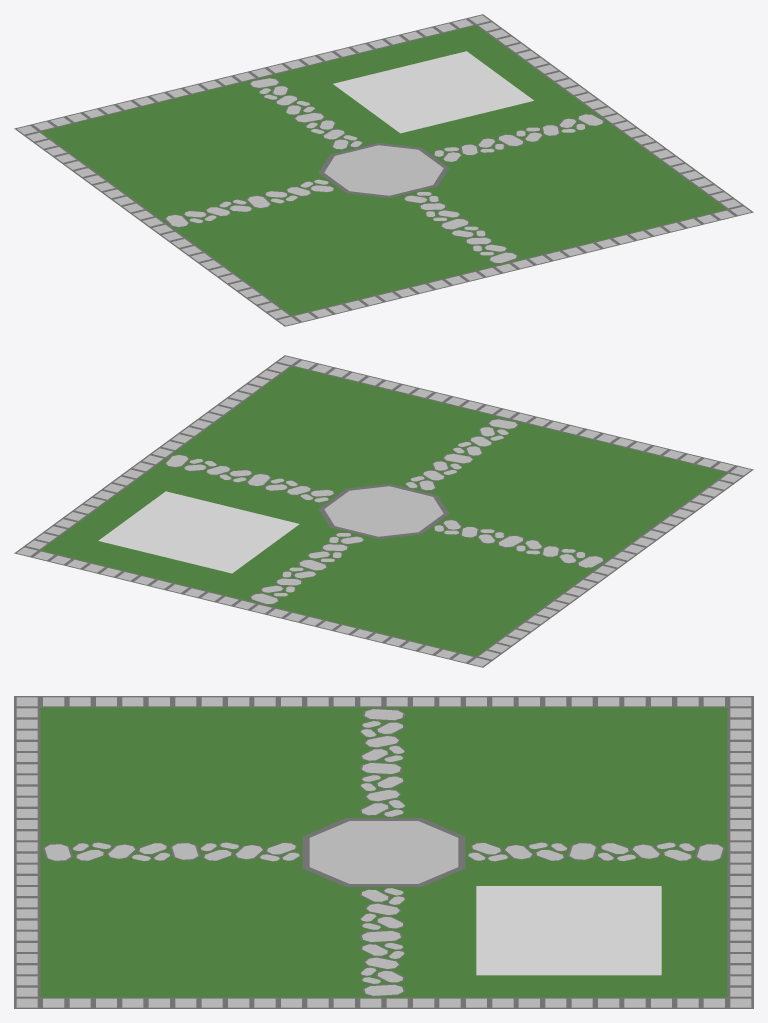
Rendered from stage-terrain.glb.
3 views of the same model, one above another, from view 1: azimuth 30°, elevation 25°; view 2: azimuth 150°, elevation 25°; view 3: azimuth 270°, elevation 25° (orthographic). The views are drawn at different scales.
Parts seen in each view (by area): view 1: Grass, sidewalk_outter_1, TablePlaceMat, sidewalk_outter_0, sidewalk_middle, sidewalk_inner_0, sidewalk_inner_1; view 2: Grass, sidewalk_outter_1, TablePlaceMat, sidewalk_outter_0, sidewalk_middle, sidewalk_inner_0, sidewalk_inner_1; view 3: Grass, sidewalk_outter_0, TablePlaceMat, sidewalk_outter_1, sidewalk_middle, sidewalk_inner_0, sidewalk_inner_1.
Part boxes in pixels (<box>): Grass: <box>40,25,727,315</box>; sidewalk_outter_1: <box>14,14,753,326</box>; TablePlaceMat: <box>333,51,533,133</box>; sidewalk_outter_0: <box>14,14,753,326</box>; sidewalk_middle: <box>319,143,448,197</box>; sidewalk_inner_0: <box>249,77,517,263</box>; sidewalk_inner_1: <box>164,114,604,227</box>; Grass: <box>40,366,727,656</box>; sidewalk_outter_1: <box>14,355,753,667</box>; TablePlaceMat: <box>98,491,299,573</box>; sidewalk_outter_0: <box>14,355,753,667</box>; sidewalk_middle: <box>319,484,448,538</box>; sidewalk_inner_0: <box>250,418,518,604</box>; sidewalk_inner_1: <box>164,454,604,567</box>; Grass: <box>40,707,727,997</box>; sidewalk_outter_0: <box>14,696,753,1008</box>; TablePlaceMat: <box>476,886,661,975</box>; sidewalk_outter_1: <box>14,696,753,1008</box>; sidewalk_middle: <box>302,818,465,886</box>; sidewalk_inner_0: <box>42,842,725,861</box>; sidewalk_inner_1: <box>360,708,405,996</box>.
Bounding box in the file's own units: 56 × 0.0583 × 56.
